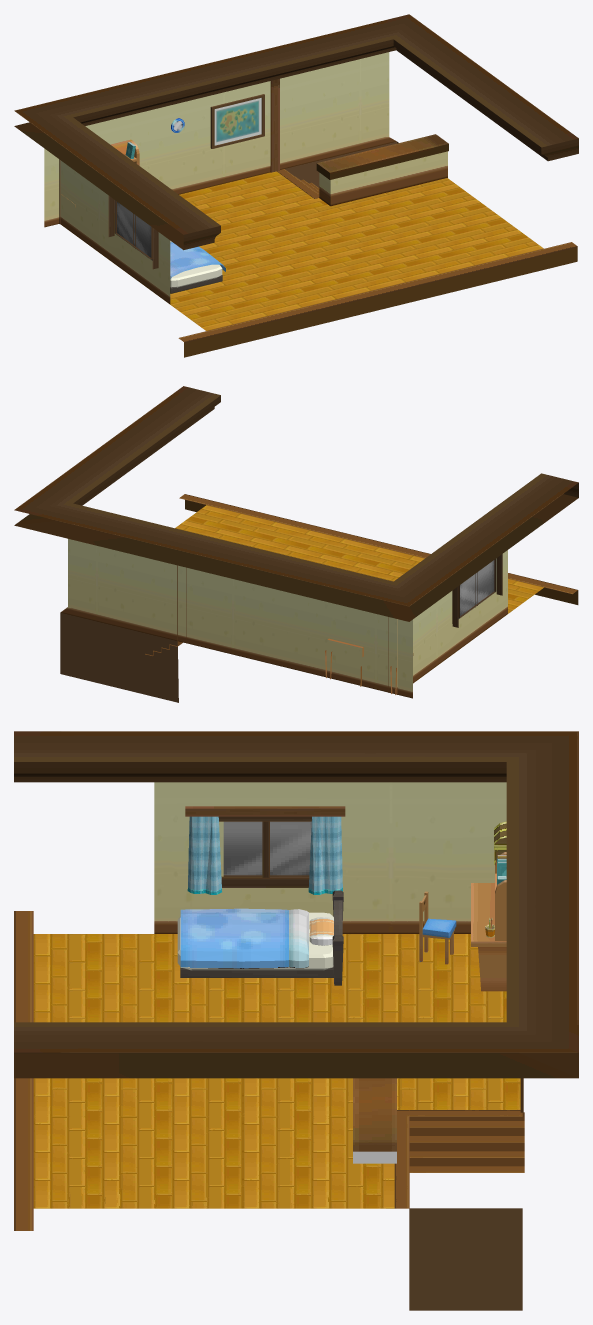
Rendered from Brendan's Room Interior.obj.
3 renders of one model, top to bottom at view 1: azimuth 30°, elevation 25°; view 2: azimuth 150°, elevation 25°; view 3: azimuth 270°, elevation 25°, orthographic. The views are drawn at different scales.
Parts seen in each view (by area): view 1: Brendans_Room; view 2: Brendans_Room; view 3: Brendans_Room.
Boxes of the visible parts, box(x1,y1,x2,y2) form: Brendans_Room: box(14, 14, 578, 357); Brendans_Room: box(14, 386, 578, 702); Brendans_Room: box(14, 731, 578, 1310).
Bounding box in the file's own units: 26.5 × 10.83 × 19.69.
Materials: 14 (14 with a texture image).
